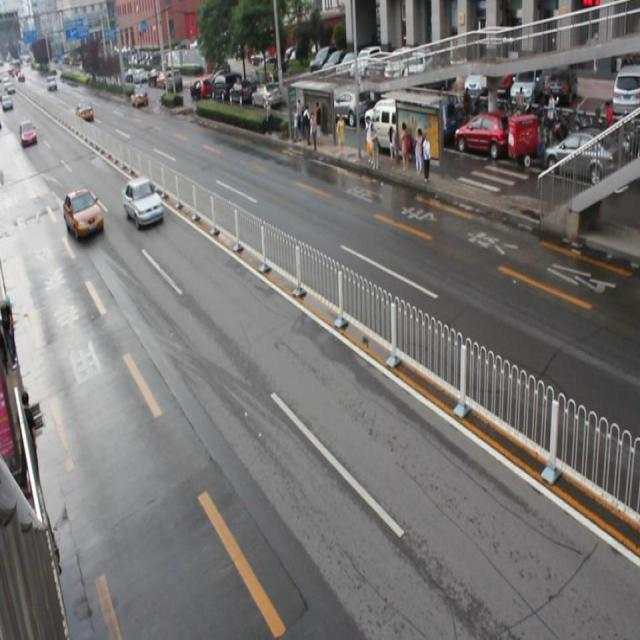car: (123, 177, 164, 231), (64, 186, 104, 241)
